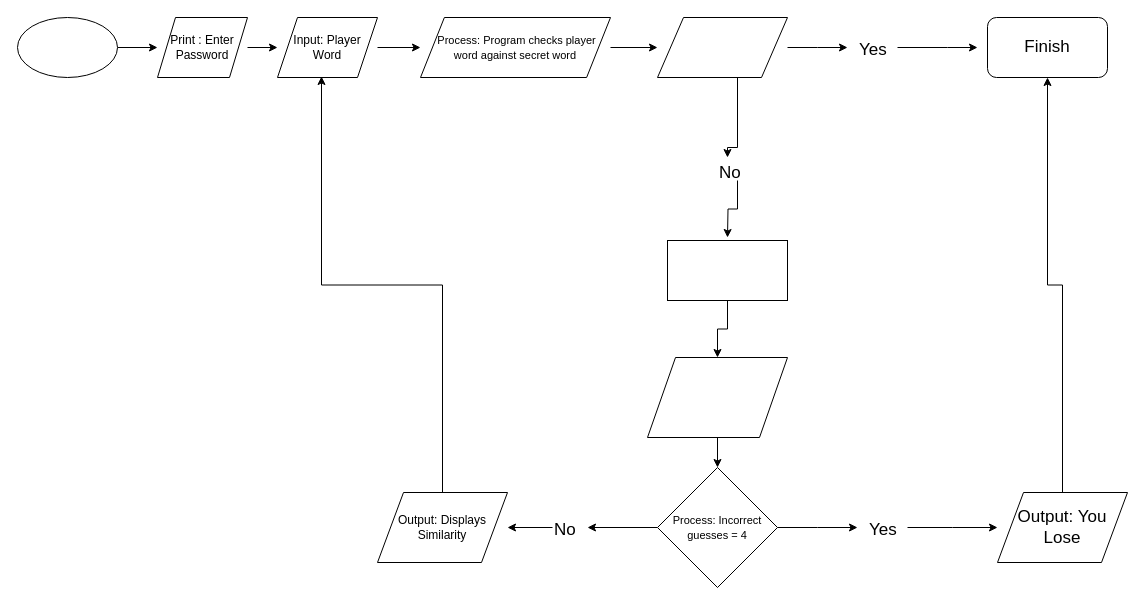
Image size: 1145x605. Some labels were removed from this diagram. Here are the shapes that lost their labels. From the top down, the centre of each, then its label:
At [67,47]: "Start".
At [722,47]: "Is player correct?".
At [727,270]: "Process: Adds 1 to incorrect guesses".
At [717,397]: "Output: Displays incorrect guesses".
